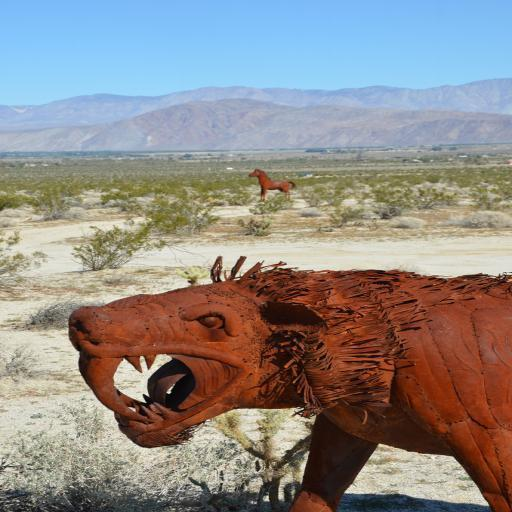horse: (246, 168, 298, 204)
